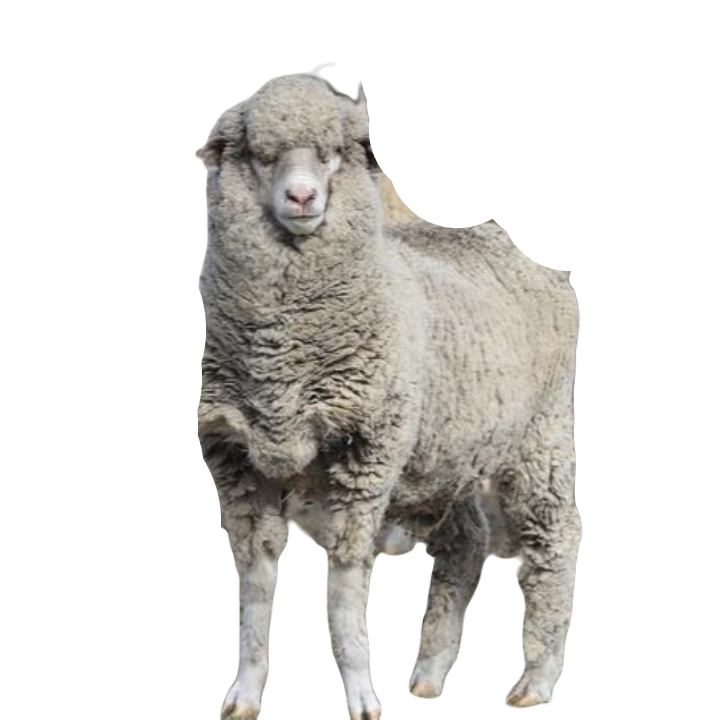Sheep: (191, 69, 587, 719)
